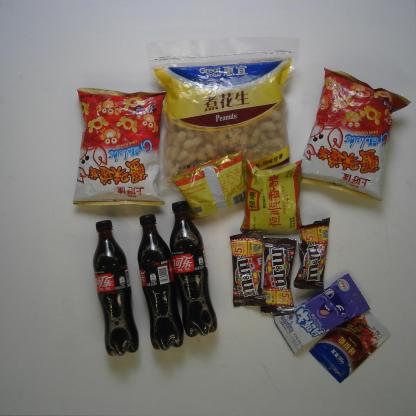Candy: (274, 272, 370, 353)
Chocolate: (260, 235, 296, 316), (295, 216, 331, 292), (230, 231, 263, 307)
Dried Food: (150, 42, 296, 196)
Drink: (168, 200, 218, 338), (137, 212, 184, 351), (92, 217, 137, 357)
Puffed Food: (296, 66, 411, 204), (73, 86, 166, 207)
Seasoner: (309, 308, 391, 384), (235, 151, 303, 236), (171, 152, 249, 216)
